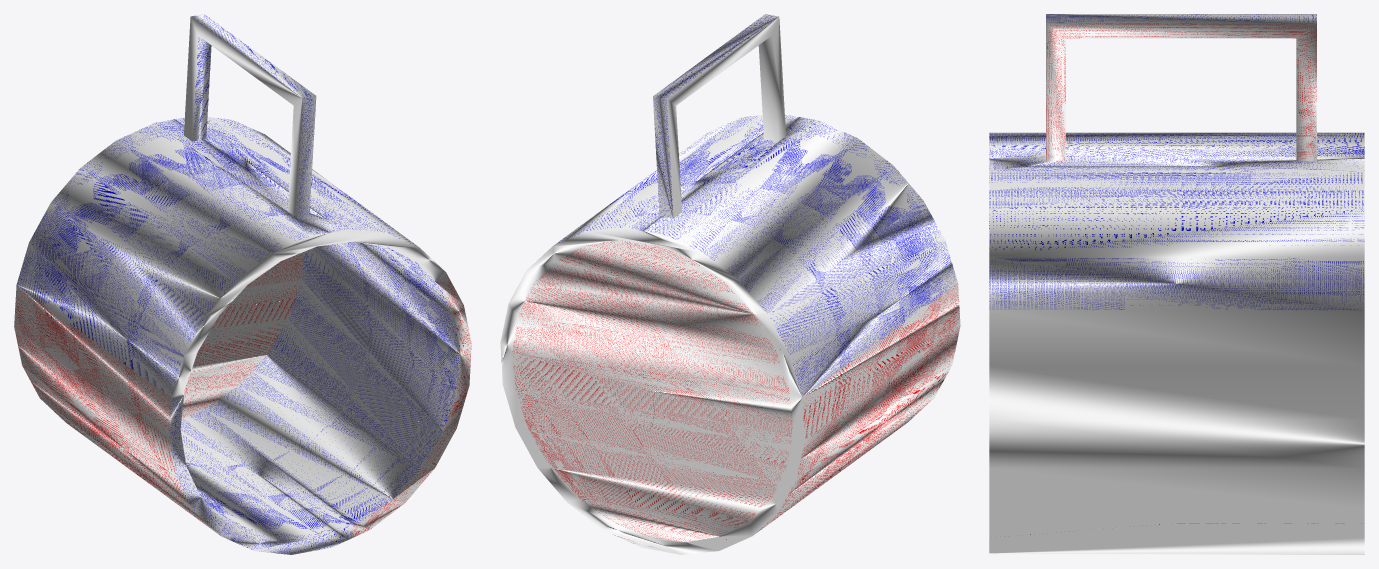
The model's file is model_align.obj.
The picture shows the model from 3 angles, left to right: view 1: azimuth 30°, elevation 25°; view 2: azimuth 150°, elevation 25°; view 3: azimuth 270°, elevation 25°; orthographic projection. The views are drawn at different scales.
Size of the model in its own units: 0.0932 by 0.1276 by 0.0826.
